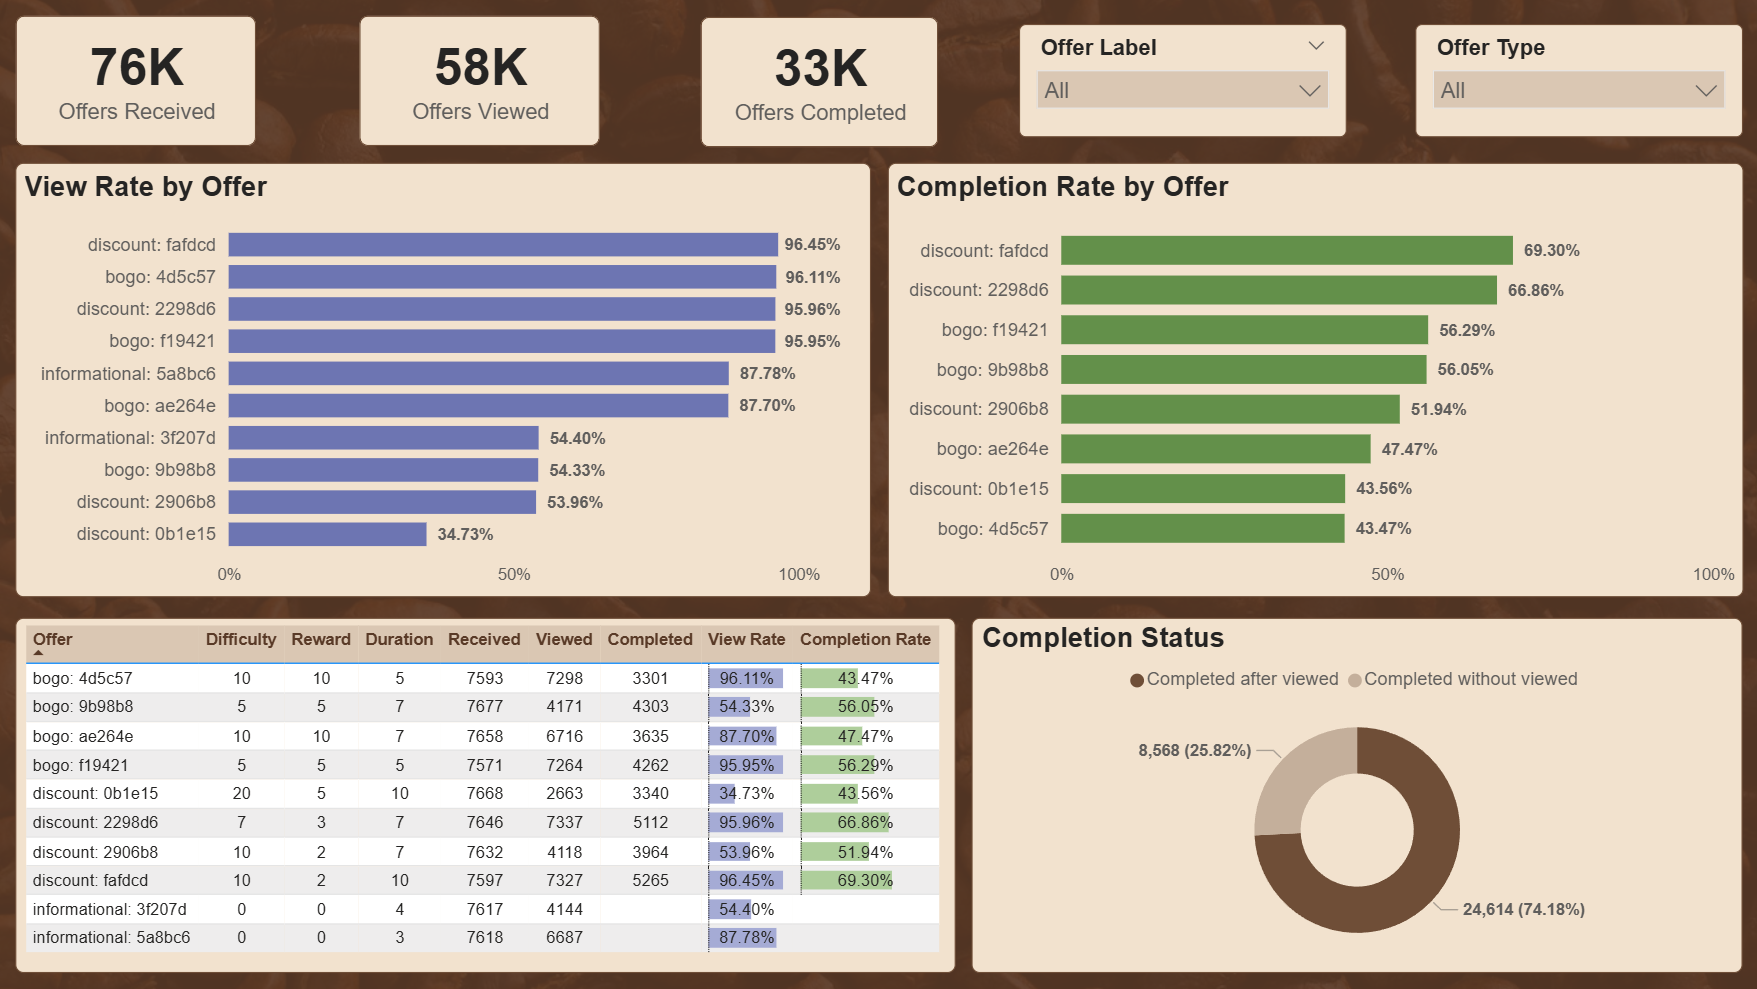

The dashboard page shown, as its layout file describes it:
{"tool":"powerbi","page":{"name":"Offer Performance","canvas":[1280,720],"ordinal":1},"visuals":[{"type":"cardVisual","fields":{"Data":["MeasuresFile.Offers Received"]},"box":[0,0,200,119.1],"z":0},{"type":"cardVisual","fields":{"Data":["MeasuresFile.Offers Completed"]},"box":[498.2,0.9,197.3,119.1],"z":1000},{"type":"cardVisual","fields":{"Data":["MeasuresFile.Offers Viewed"]},"box":[249.5,0,199.1,119.1],"z":3000},{"type":"clusteredBarChart","title":"View Rate by Offer","fields":{"Category":["Dim Offers.Offer Label"],"Y":["MeasuresFile.View Rate"]},"box":[12,119.1,622,316.4],"z":4000},{"type":"clusteredBarChart","title":"Completion Rate by Offer","fields":{"Category":["Dim Offers.Offer Label"],"Y":["MeasuresFile.Completion Rate"]},"box":[646,119.1,622,316.4],"z":5000},{"type":"tableEx","fields":{"Values":["Dim Offers.Offer Label","Dim Offers.difficulty","Dim Offers.reward","Dim Offers.duration","MeasuresFile.Offers Received","MeasuresFile.Offers Viewed","MeasuresFile.Offers Completed","MeasuresFile.View Rate","MeasuresFile.Completion Rate"]},"box":[11.8,450,683.6,258],"z":6000},{"type":"slicer","fields":{"Values":["Dim Offers.Offer Label"]},"box":[741.8,18.2,238.2,82.7],"z":7000},{"type":"slicer","fields":{"Values":["Dim Offers.offer_type"]},"box":[1030,18.2,238.2,82.7],"z":8000},{"type":"donutChart","title":"Completion Status","fields":{"Category":["vw_offer_completion_status.completion_status"],"Y":["Sum(vw_offer_completion_status.completed_count)"]},"box":[707,450,561,258.2],"z":9000}]}

Visuals, with their boxes in screenshot pixels (x1, y1, x2, y2), scaled from the page's 1280x720 canvas onto the 1757x989 screenshot:
cardVisual - MeasuresFile.Offers Received: bbox(0, 0, 275, 164)
cardVisual - MeasuresFile.Offers Completed: bbox(684, 1, 955, 165)
cardVisual - MeasuresFile.Offers Viewed: bbox(342, 0, 616, 164)
"View Rate by Offer" clusteredBarChart: bbox(16, 164, 870, 598)
"Completion Rate by Offer" clusteredBarChart: bbox(887, 164, 1741, 598)
tableEx - Dim Offers.Offer Label x Dim Offers.difficulty: bbox(16, 618, 955, 973)
slicer - Dim Offers.Offer Label: bbox(1018, 25, 1345, 139)
slicer - Dim Offers.offer_type: bbox(1414, 25, 1741, 139)
"Completion Status" donutChart: bbox(970, 618, 1741, 973)
